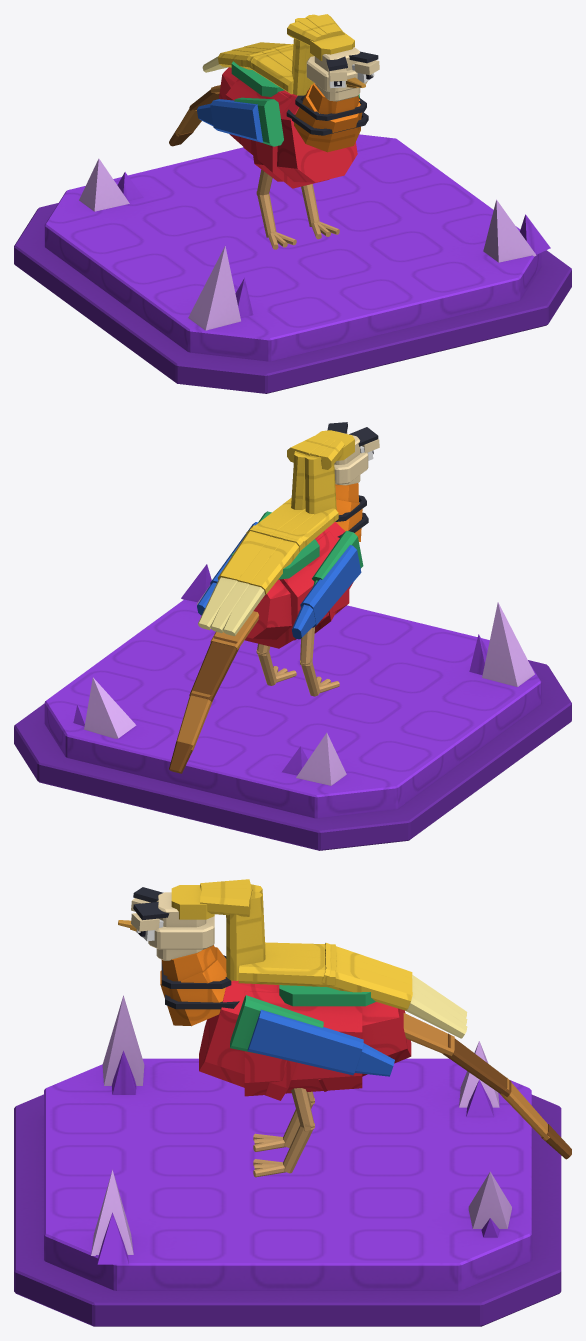
The model's file is GoldenPheasant.fbx.
The picture shows the model from 3 angles, top to bottom: view 1: azimuth 30°, elevation 25°; view 2: azimuth 150°, elevation 25°; view 3: azimuth 270°, elevation 25°; orthographic projection. The views are drawn at different scales.
Visible parts, largest first — view 1: Art_GoldenPheasant_Stand, Art_GoldenPheasant_Head, Art_GoldenPheasant_Body, Art_GoldenPheasant_WingR, Art_GoldenPheasant_Tail; view 2: Art_GoldenPheasant_Stand, Art_GoldenPheasant_Head, Art_GoldenPheasant_Body, Art_GoldenPheasant_Tail, Art_GoldenPheasant_WingR; view 3: Art_GoldenPheasant_Stand, Art_GoldenPheasant_Head, Art_GoldenPheasant_Body, Art_GoldenPheasant_WingL, Art_GoldenPheasant_Tail.
Boxes of the visible parts, left/top/right/bottom form: Art_GoldenPheasant_Stand: left=14, top=134, right=571, bottom=393; Art_GoldenPheasant_Head: left=202, top=14, right=379, bottom=152; Art_GoldenPheasant_Body: left=219, top=61, right=357, bottom=249; Art_GoldenPheasant_WingR: left=197, top=97, right=283, bottom=146; Art_GoldenPheasant_Tail: left=169, top=85, right=220, bottom=146; Art_GoldenPheasant_Stand: left=14, top=564, right=571, bottom=850; Art_GoldenPheasant_Head: left=198, top=422, right=379, bottom=636; Art_GoldenPheasant_Body: left=231, top=522, right=353, bottom=696; Art_GoldenPheasant_Tail: left=169, top=611, right=258, bottom=773; Art_GoldenPheasant_WingR: left=292, top=530, right=363, bottom=639; Art_GoldenPheasant_Stand: left=14, top=995, right=561, bottom=1326; Art_GoldenPheasant_Head: left=118, top=879, right=467, bottom=1038; Art_GoldenPheasant_Body: left=199, top=980, right=411, bottom=1177; Art_GoldenPheasant_WingL: left=230, top=995, right=394, bottom=1076; Art_GoldenPheasant_Tail: left=403, top=1013, right=571, bottom=1159.
Bounding box in the file's own units: 3.3 × 2.15 × 3.36.
